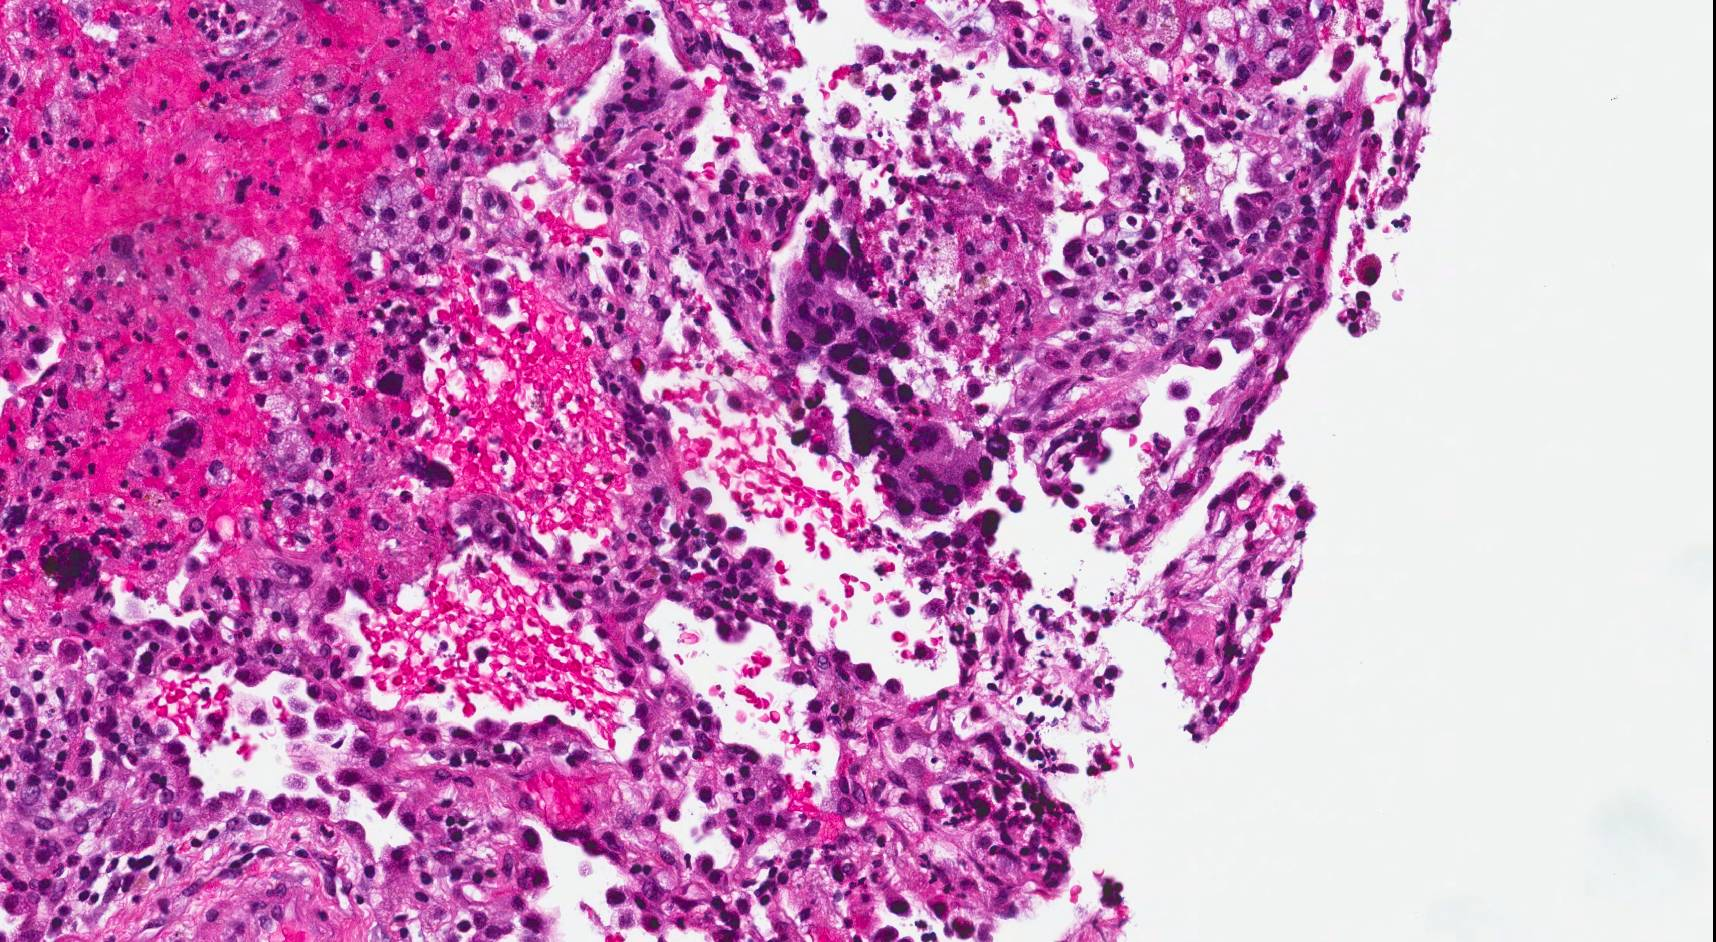stas: (780, 217, 1020, 522)
